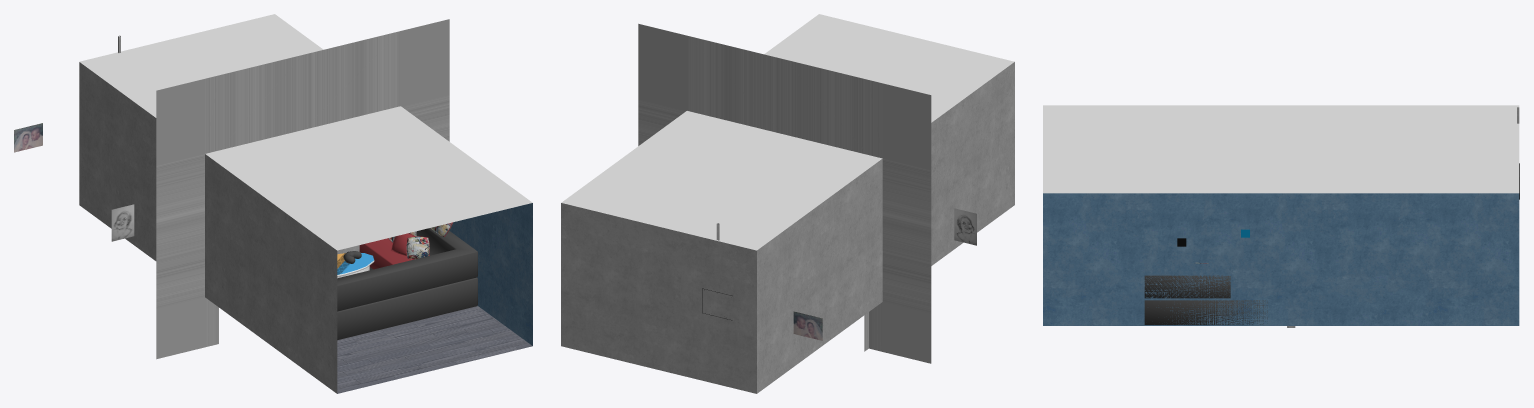
File: LivingRoom.fbx
3 renders of one model, left to right at view 1: azimuth 30°, elevation 25°; view 2: azimuth 150°, elevation 25°; view 3: azimuth 270°, elevation 25°, orthographic. The views are drawn at different scales.
Parts seen in each view (by area): view 1: Walls, Mid Wall, Sofa, picture06.001, picture03, Pillow 02, Sofa Table Top; view 2: Walls, Mid Wall, picture06.001, picture03; view 3: Walls, Sofa.
Part boxes in pixels (x1,y1,x2,y2): Walls: (79, 14, 532, 393); Mid Wall: (156, 19, 449, 359); Sofa: (337, 228, 477, 340); picture06.001: (111, 204, 134, 241); picture03: (14, 123, 42, 152); Pillow 02: (406, 236, 429, 259); Sofa Table Top: (337, 253, 373, 274); Walls: (561, 14, 1014, 393); Mid Wall: (638, 23, 931, 363); picture06.001: (954, 208, 976, 245); picture03: (793, 311, 822, 340); Walls: (1043, 105, 1519, 325); Sofa: (1144, 275, 1267, 324).
Bounding box in the file's own units: 17.29 × 13.11 × 22.85.
